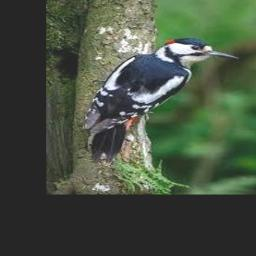Woodpecker: (81, 38, 238, 162)
